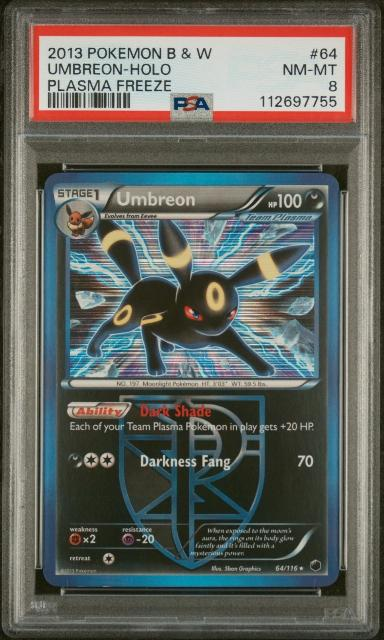Card: (42, 170, 343, 590)
Name: (115, 188, 198, 210)
